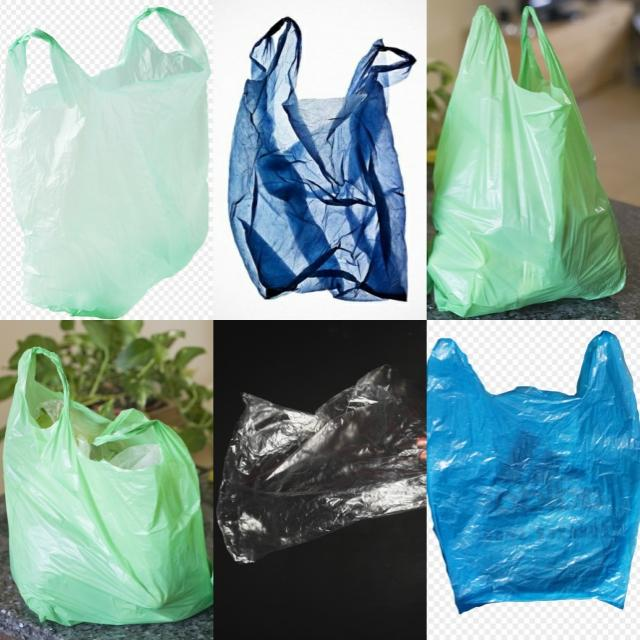Single-layer Plastic: (4, 8, 210, 318), (428, 6, 625, 317), (428, 332, 640, 611), (5, 347, 212, 625), (229, 18, 415, 301), (218, 365, 425, 563)
